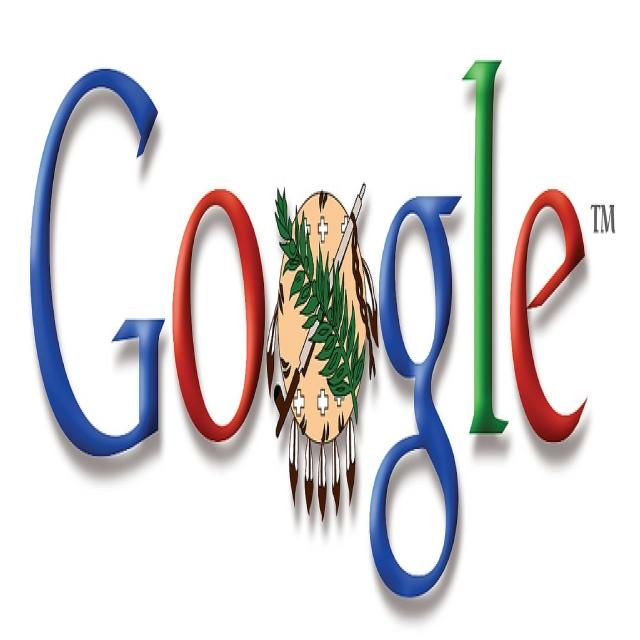google: (21, 44, 601, 617)
